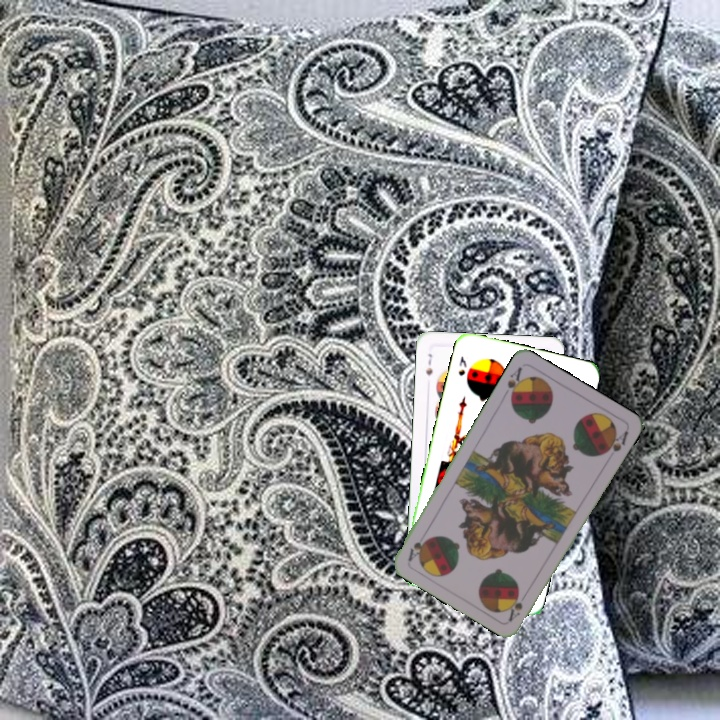S7: (422, 350, 435, 378)
SA: (499, 362, 527, 403), (504, 592, 525, 623)
SK: (454, 352, 469, 379)
